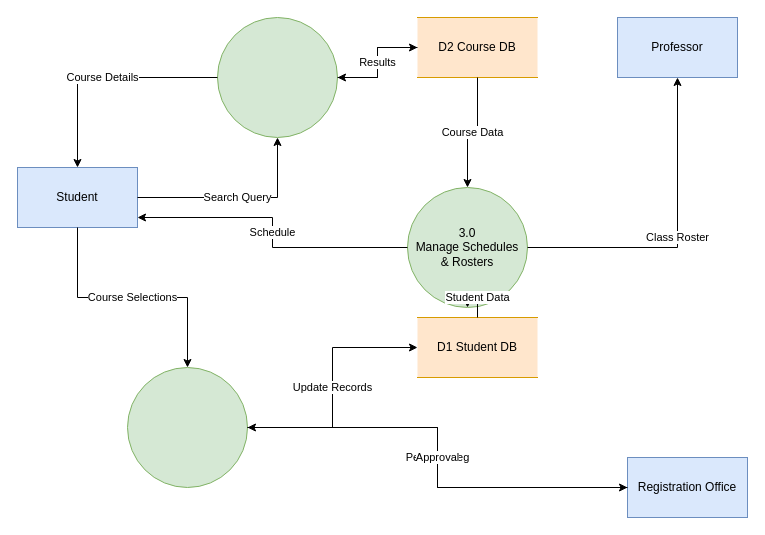
This 765x535 diagram has some shape labels left out. Each missing label, with the centre of its shape:
1.0 Manage Courses: [277,77]
2.0 Manage Registration: [187,427]
